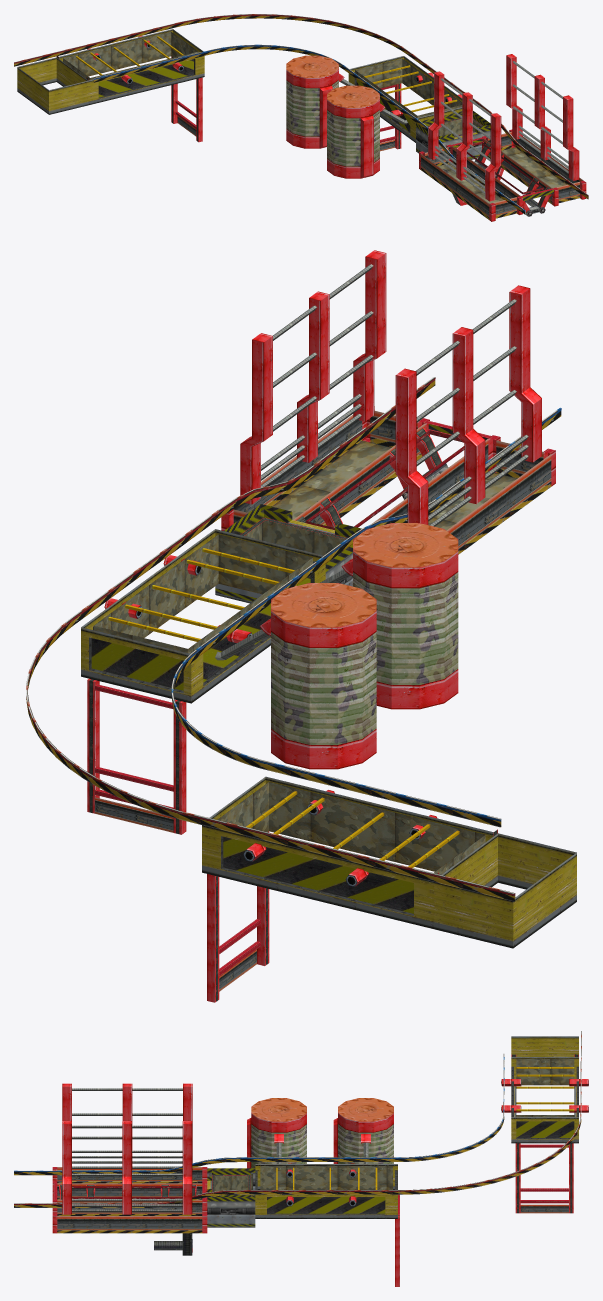
Rendered from STG08_ON_03.obj.
3 renders of one model, top to bottom at view 1: azimuth 30°, elevation 25°; view 2: azimuth 150°, elevation 25°; view 3: azimuth 270°, elevation 25°, orthographic. The views are drawn at different scales.
Parts seen in each view (by area): view 1: Object_2; view 2: Object_2; view 3: Object_2.
Boxes of the visible parts, x1,y1,x2,y2 form: Object_2: [14, 14, 588, 221]; Object_2: [26, 250, 576, 1002]; Object_2: [14, 1031, 588, 1286].
Bounding box in the file's own units: 820 × 390 × 1190.
